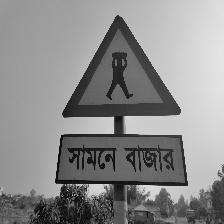Market-in-front: (57, 17, 188, 187)
